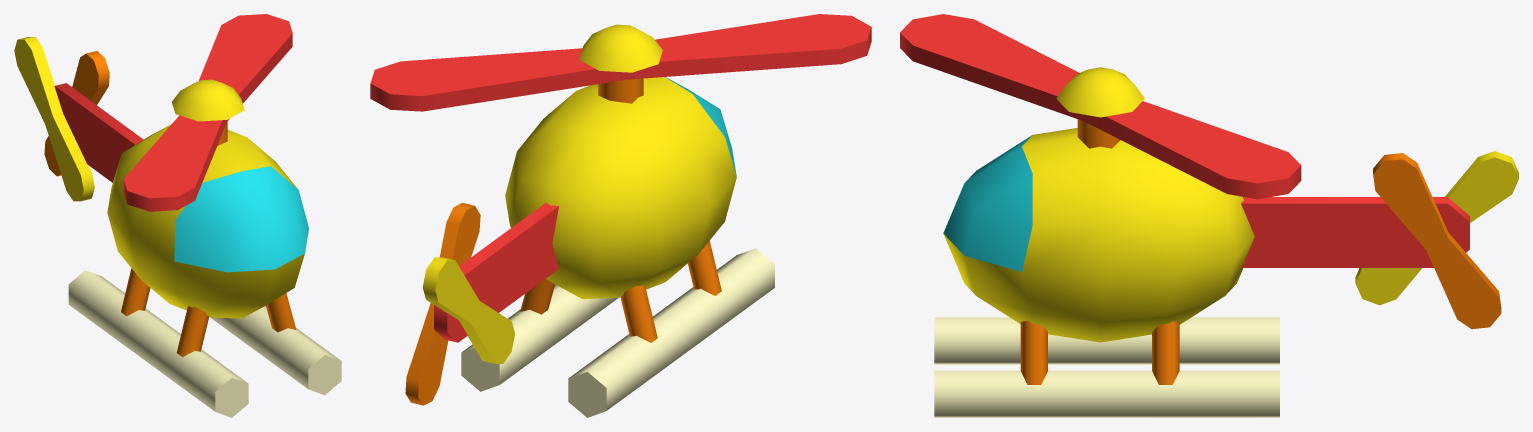
The model's file is toy_031.glb.
3 views of the same model, side by side, from view 1: azimuth 30°, elevation 25°; view 2: azimuth 150°, elevation 25°; view 3: azimuth 270°, elevation 25° (orthographic). The views are drawn at different scales.
Parts seen in each view (by area): view 1: toy_031; view 2: toy_031; view 3: toy_031.
Part boxes in pixels (bbox=[...]): toy_031: bbox=[14, 14, 341, 417]; toy_031: bbox=[370, 14, 871, 417]; toy_031: bbox=[900, 14, 1518, 417].
Bounding box in the file's own units: 0.4193 × 0.3687 × 0.6468.
Materials: 1 (1 with a texture image).
